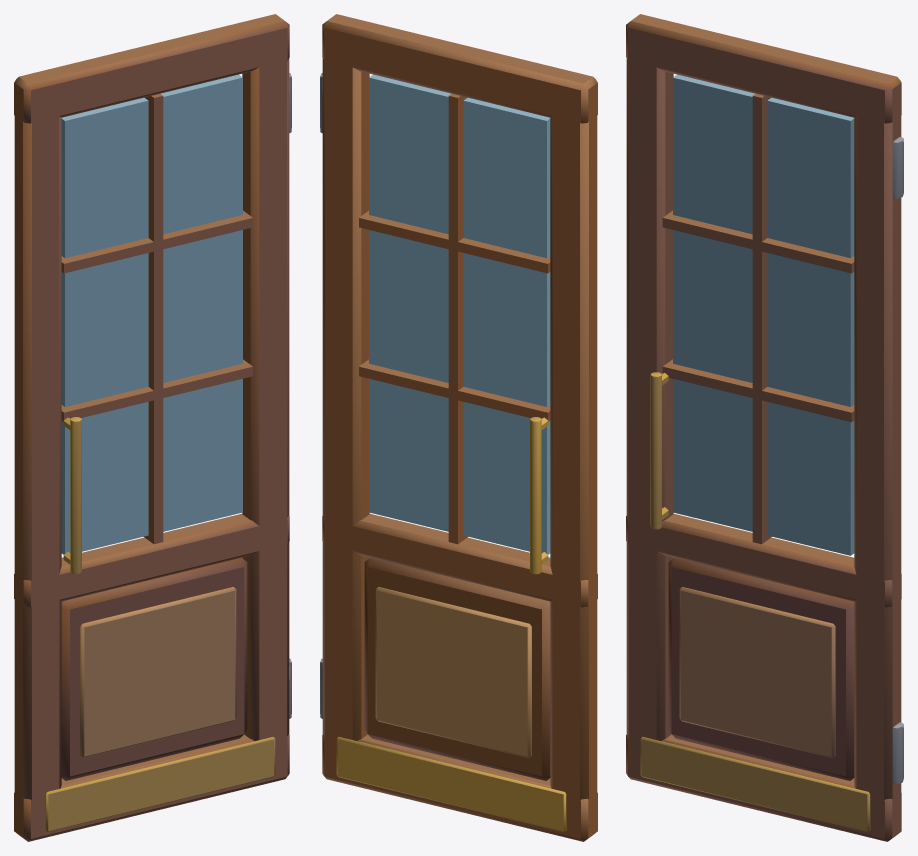
Rendered from OfficeDoorFR.fbx.
3 renders of one model, left to right at view 1: azimuth 30°, elevation 25°; view 2: azimuth 150°, elevation 25°; view 3: azimuth 330°, elevation 25°, orthographic.
Visible parts, largest first — view 1: SM_Bld_OfficeV2_DoorFR, SM_Bld_OfficeV2_DoorFR_Glass; view 2: SM_Bld_OfficeV2_DoorFR, SM_Bld_OfficeV2_DoorFR_Glass; view 3: SM_Bld_OfficeV2_DoorFR, SM_Bld_OfficeV2_DoorFR_Glass.
Boxes of the visible parts, x1,y1,x2,y2 form: SM_Bld_OfficeV2_DoorFR: [14, 14, 291, 841]; SM_Bld_OfficeV2_DoorFR_Glass: [61, 74, 242, 554]; SM_Bld_OfficeV2_DoorFR: [320, 14, 597, 841]; SM_Bld_OfficeV2_DoorFR_Glass: [369, 74, 550, 554]; SM_Bld_OfficeV2_DoorFR: [626, 14, 903, 841]; SM_Bld_OfficeV2_DoorFR_Glass: [673, 74, 854, 555].
Size of the model in its own units: 2.96 by 7.9 by 0.7132.
